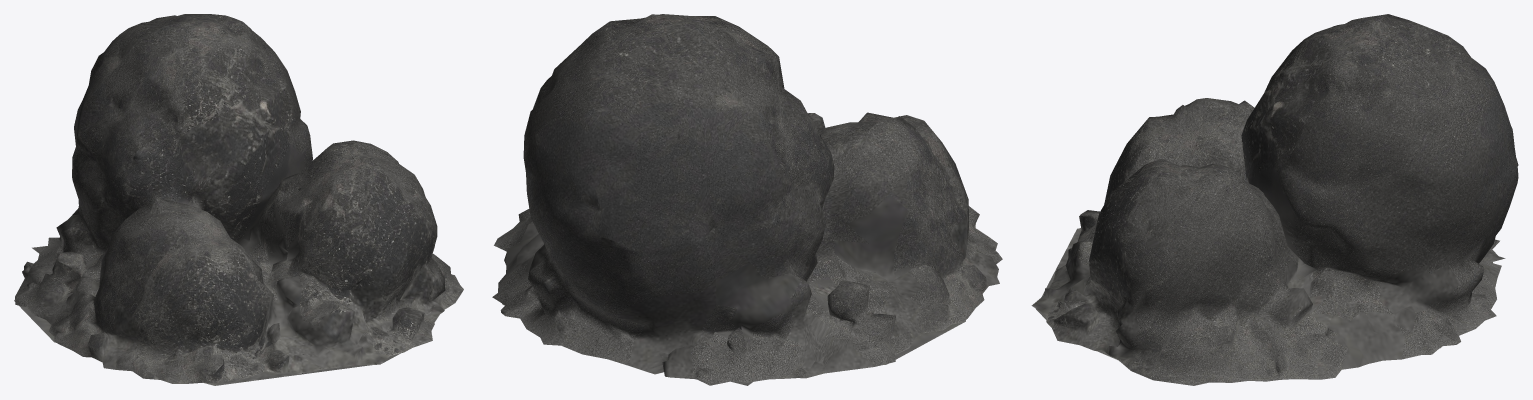
The model's file is AW-MOON-ROCK-001-v0.2.glb.
The picture shows the model from 3 angles, left to right: view 1: azimuth 30°, elevation 25°; view 2: azimuth 150°, elevation 25°; view 3: azimuth 270°, elevation 25°; orthographic projection. The views are drawn at different scales.
Visible parts, largest first — view 1: AW-MOON-ROCK-001_meter_ground_pivot; view 2: AW-MOON-ROCK-001_meter_ground_pivot; view 3: AW-MOON-ROCK-001_meter_ground_pivot.
Boxes of the visible parts, x1,y1,x2,y2 form: AW-MOON-ROCK-001_meter_ground_pivot: (14,14,463,385); AW-MOON-ROCK-001_meter_ground_pivot: (492,14,1002,385); AW-MOON-ROCK-001_meter_ground_pivot: (1031,14,1518,385).
Size of the model in its own units: 4.05 by 2.5 by 4.2.
1 material, 1 textured.
